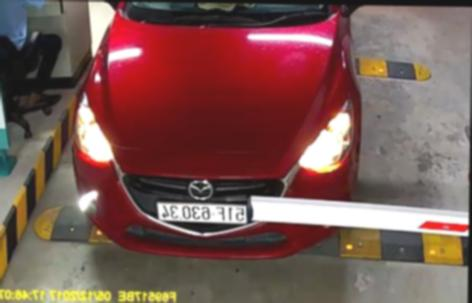License_Plate: (156, 199, 251, 228)
